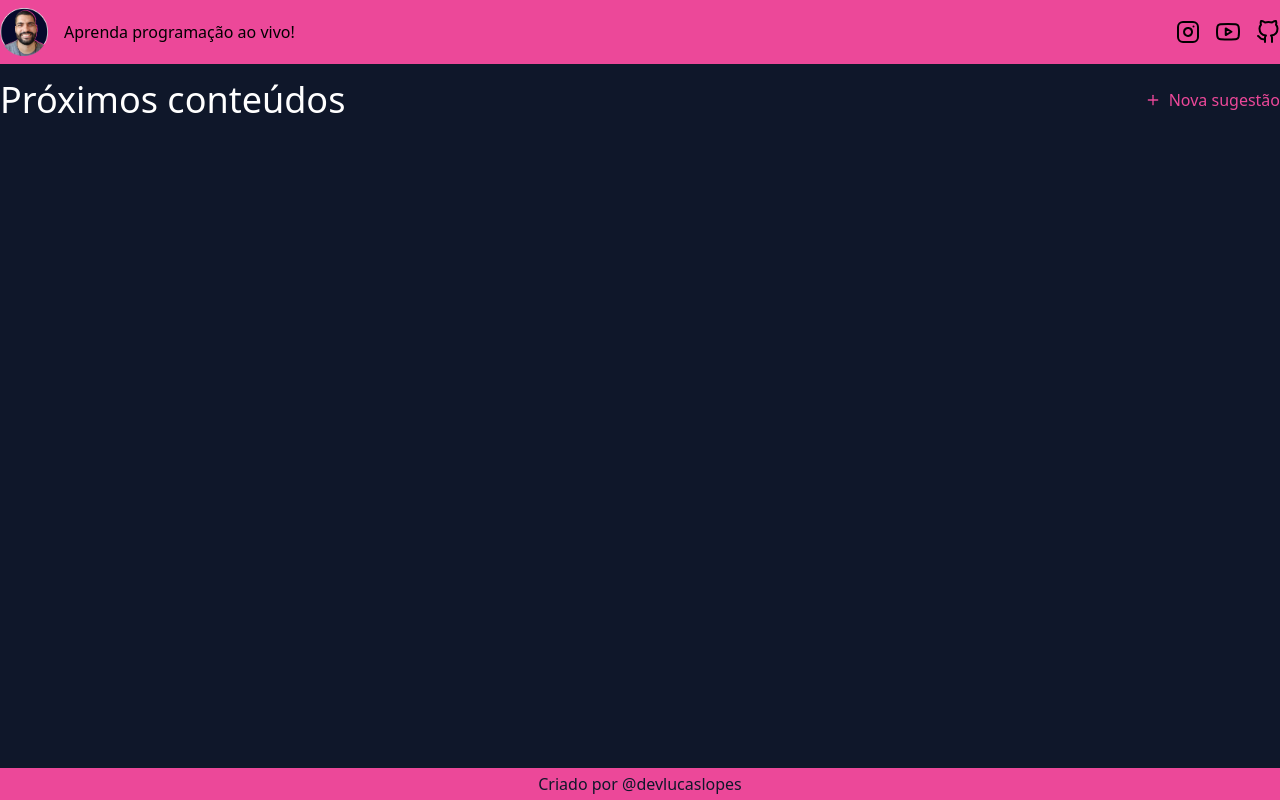
it: <App /> › should toggle dialog when buttons are clicked
Click the button "Nova sugestão".
click(1212, 100)  # box [1145,80,1279,120]
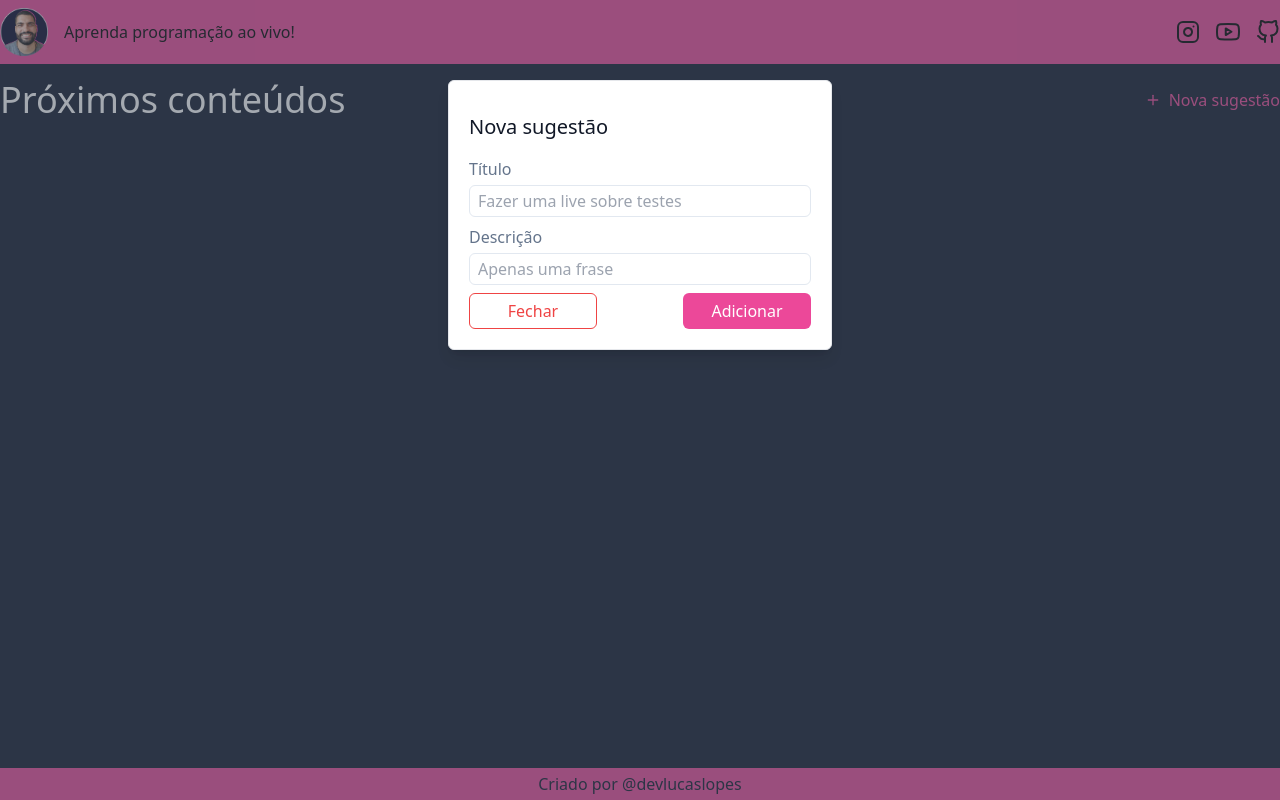
Expected: the dialog is shown
Click the button "Fechar".
click(533, 311)  # box [469,293,597,329]
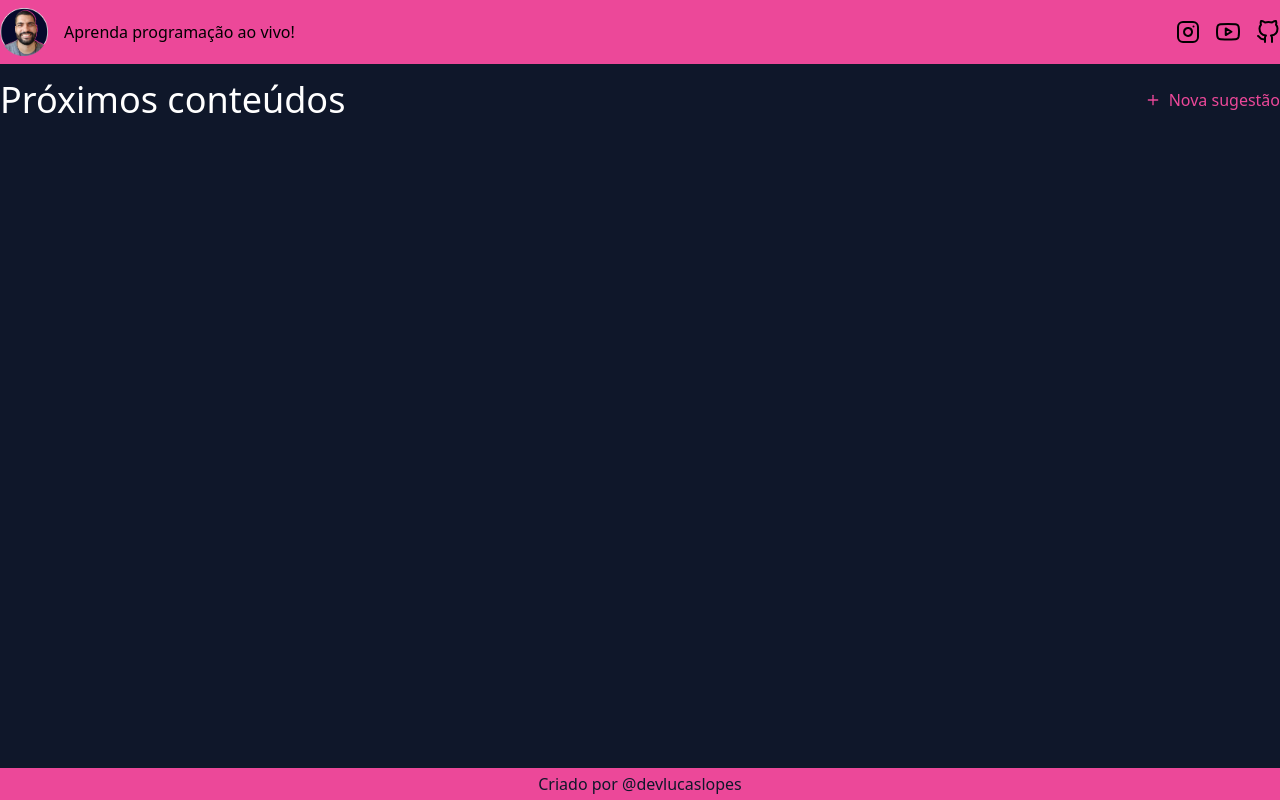
Expected: the dialog is gone
